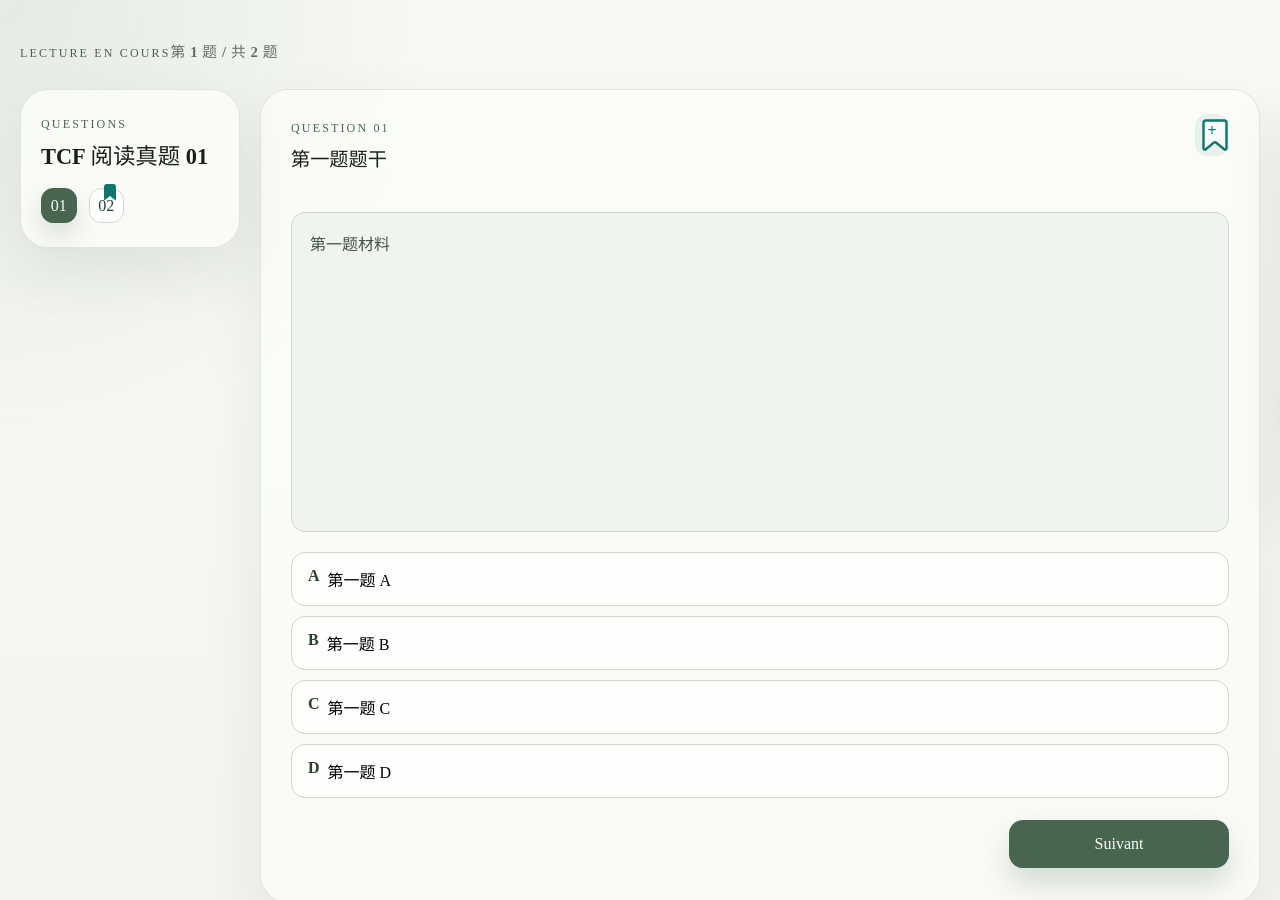
Scenario: PracticePage › auto-saves the current selection before jumping to another question
The width and height of the screenshot is (1280, 900).
Check: the heading "第一题题干" is shown, box [291,149,387,170]
Step 1. Click the button named "A第一题 A" → (359, 581), box [291,552,1229,606]
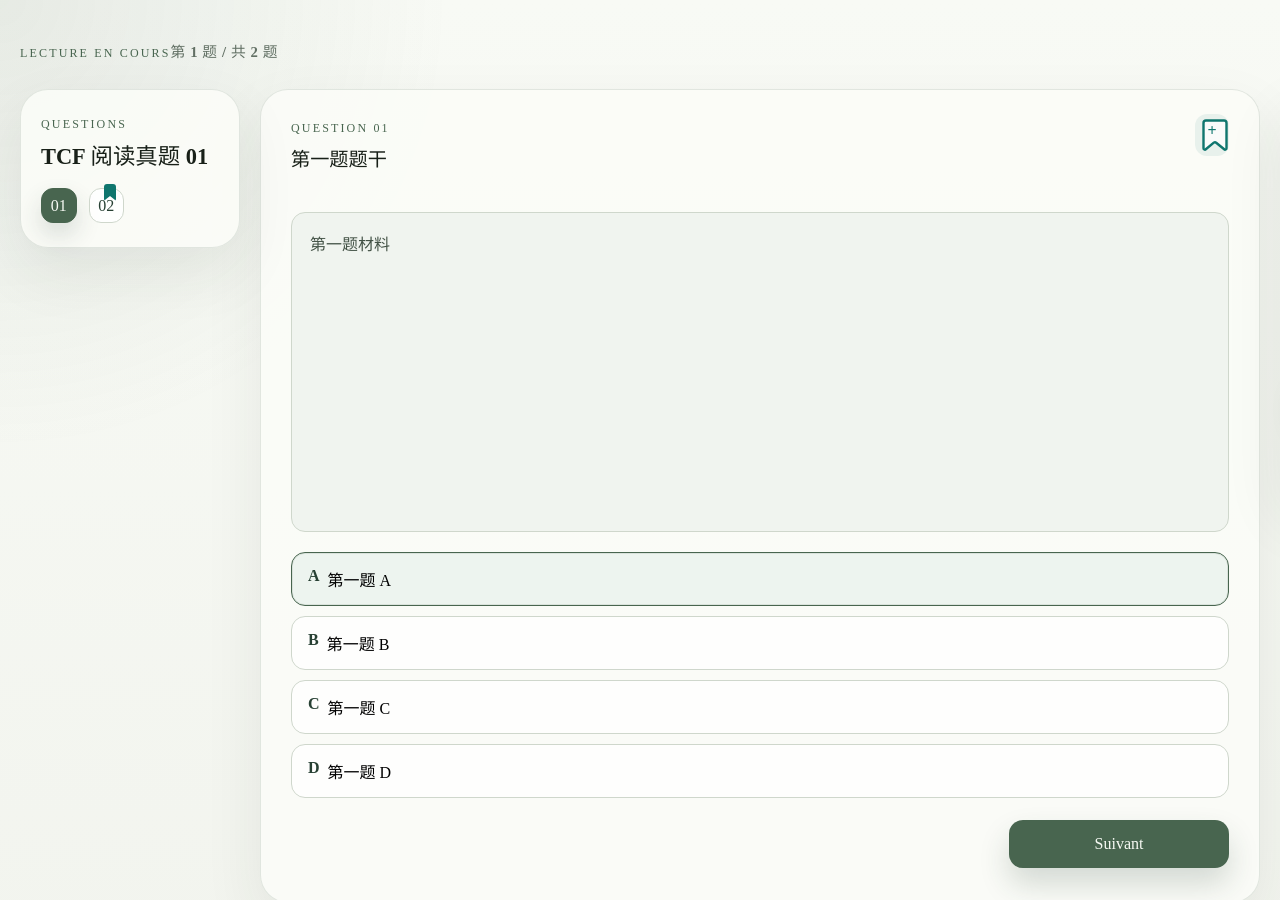
Step 2. Click the button "02" → (106, 206), box [88,188,124,223]
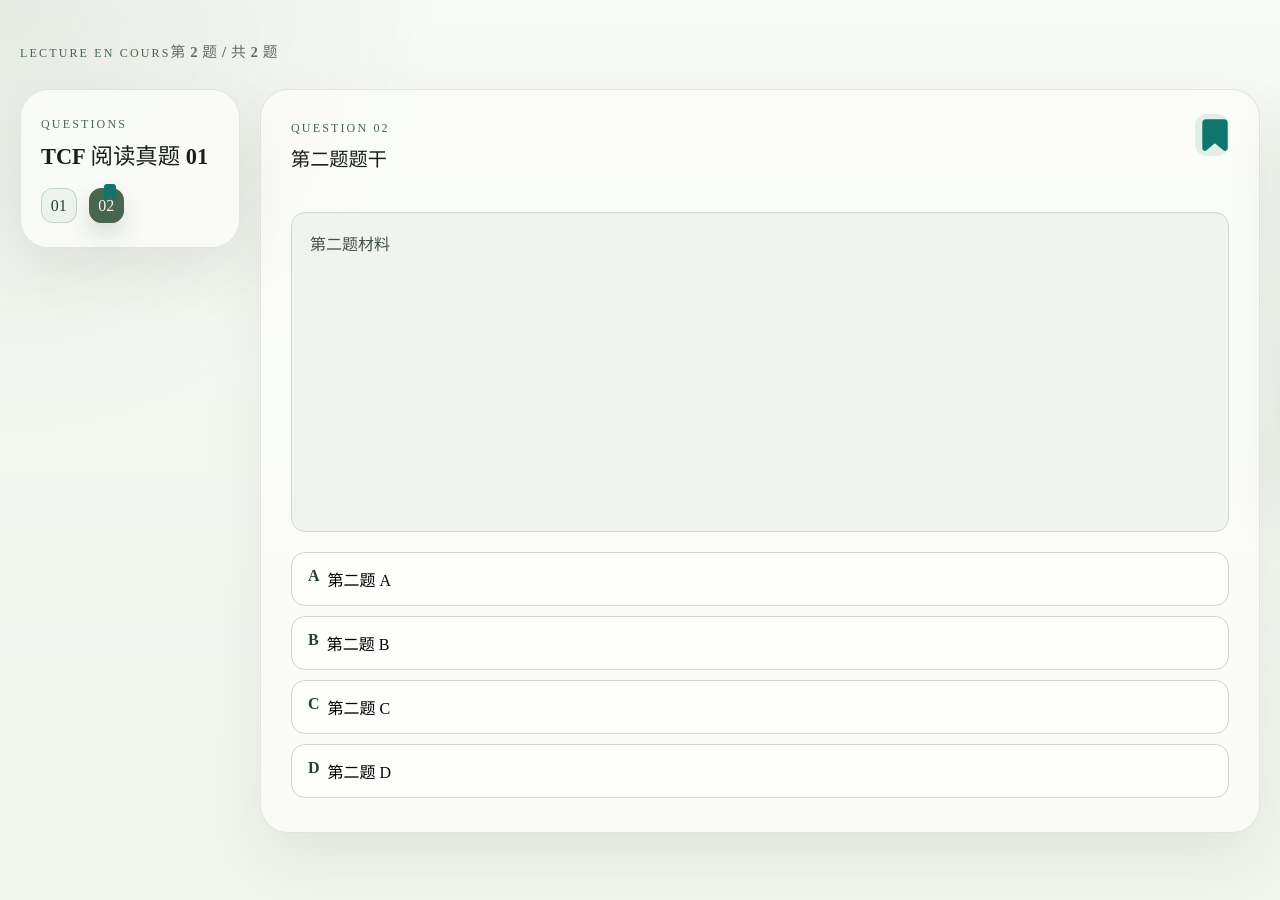
Check: the heading "第二题题干" is shown, box [291,149,387,170]
